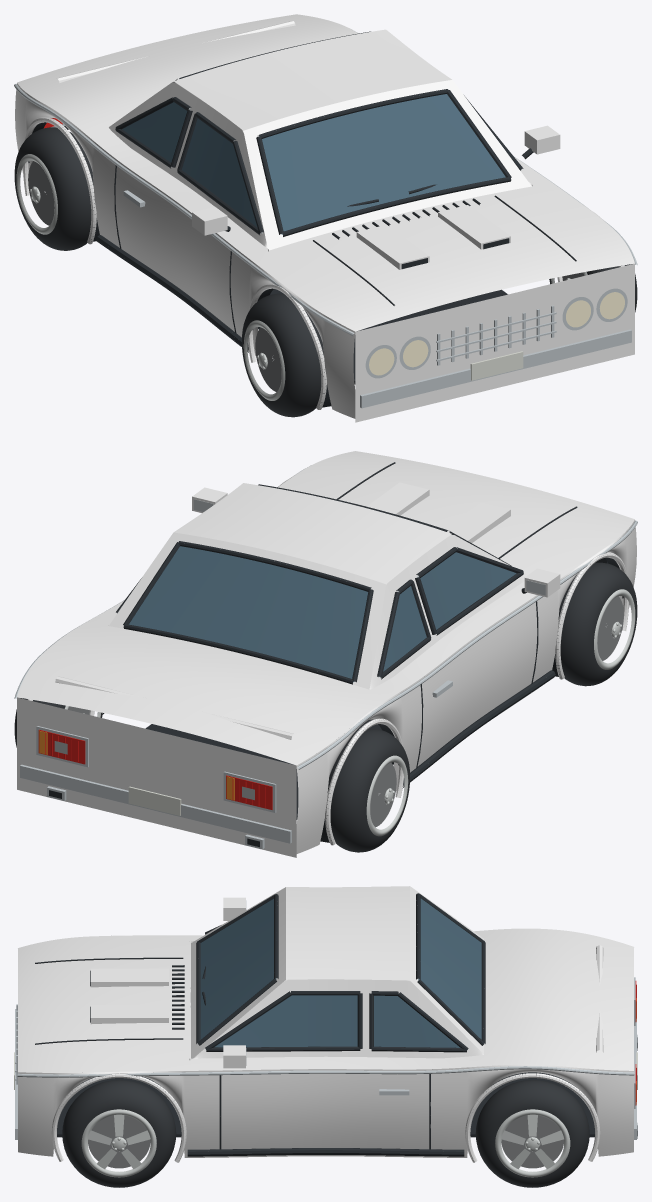
The picture shows the model from 3 angles, top to bottom: view 1: azimuth 30°, elevation 25°; view 2: azimuth 150°, elevation 25°; view 3: azimuth 270°, elevation 25°; orthographic projection. The views are drawn at different scales.
Visible parts, largest first — view 1: body, wheel_fl, wheel_rl; view 2: body, wheel_rl, wheel_fl; view 3: body, wheel_rr, wheel_fr.
Part boxes in pixels (x1,y1,x2,y2): body: (14,14,637,422); wheel_fl: (242,293,325,417); wheel_rl: (14,127,95,250); body: (14,451,637,857); wheel_rl: (327,729,409,852); wheel_fl: (557,562,637,686); body: (14,886,637,1162); wheel_rr: (475,1080,589,1187); wheel_fr: (62,1080,176,1187).
Bounding box in the file's own units: 2.64 × 1.46 × 4.38.
